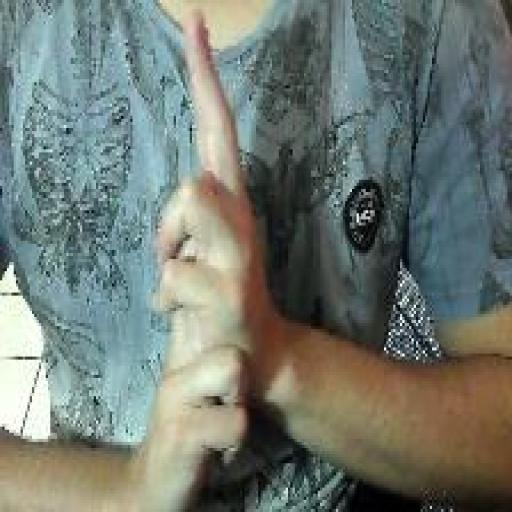Hitsuji -ram-: (144, 8, 256, 508)
